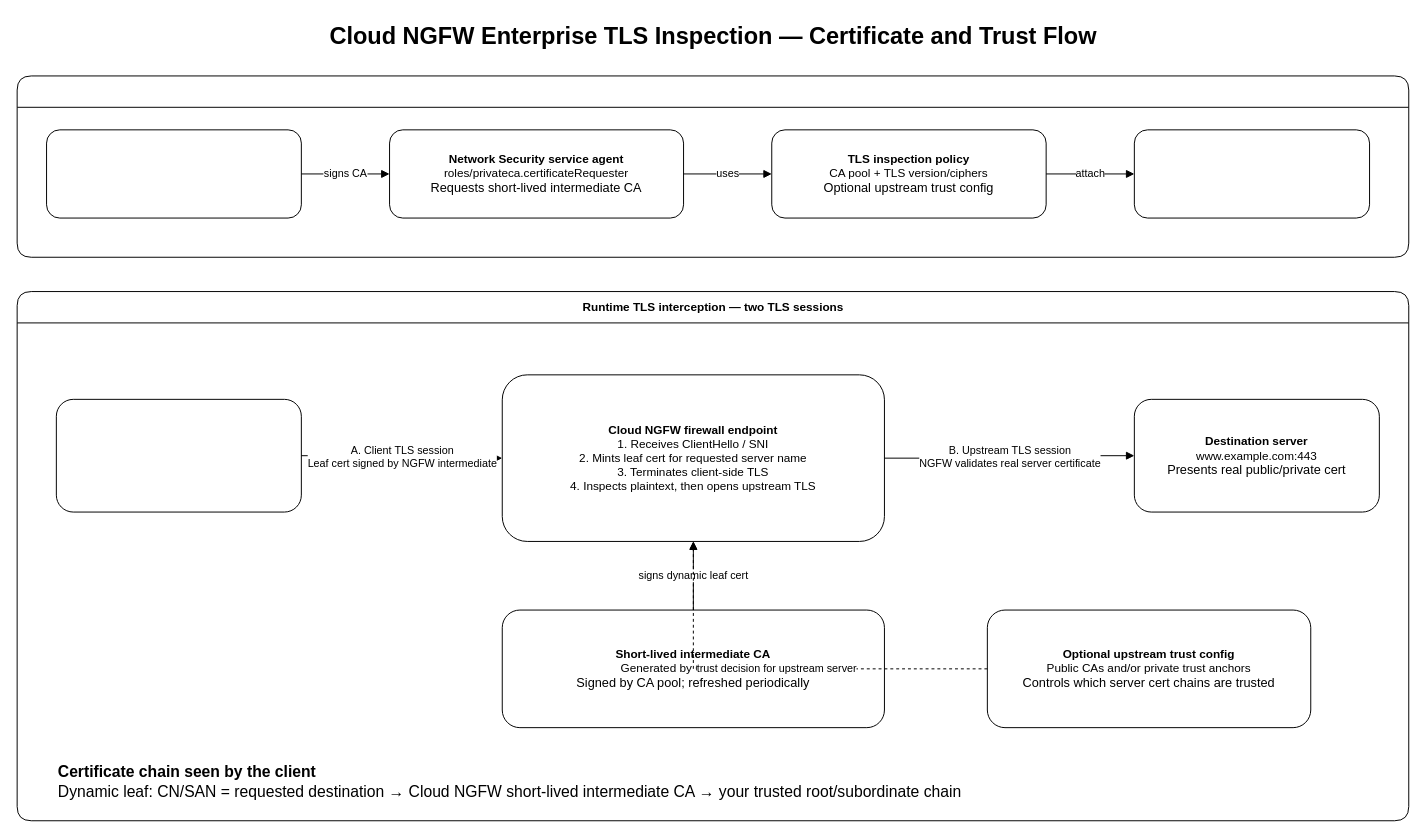
Some shapes in this 1426 by 838 pixel diagram are drawn without their labels. Each missing label, with the box of its shape:
CA Pool (regional) Root CA or subordinate CA No issuance-policy/name constraints: (46, 129, 301, 218)
Client workload 10.10.1.10 Trust store contains enterprise root: (55, 398, 301, 512)
Endpoint association VPC + zone References TLS policy: (1133, 129, 1370, 218)
Provisioning / control plane: (16, 75, 1409, 257)
